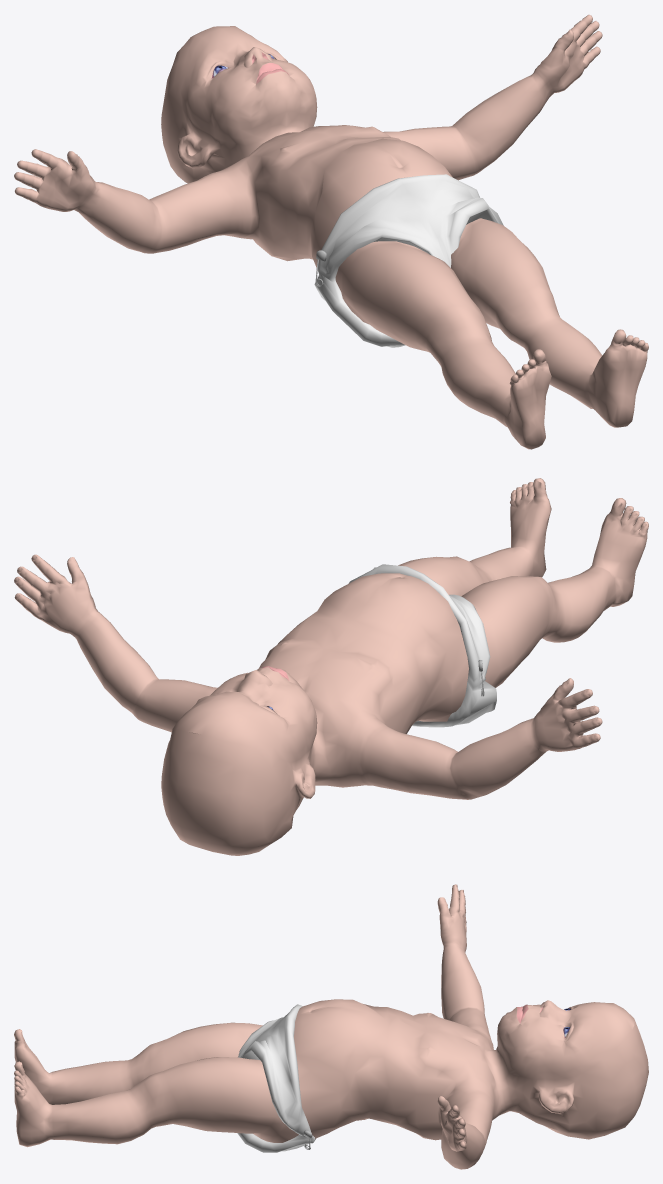
The model's file is Baby_01.gltf.
The picture shows the model from 3 angles, top to bottom: view 1: azimuth 30°, elevation 25°; view 2: azimuth 150°, elevation 25°; view 3: azimuth 270°, elevation 25°; orthographic projection. The views are drawn at different scales.
Parts seen in each view (by area): view 1: instance_0; view 2: instance_0; view 3: instance_0.
Part boxes in pixels (x1,y1,x2,y2): instance_0: (14,14,648,449); instance_0: (14,478,648,855); instance_0: (14,884,648,1169).
Bounding box in the file's own units: 43.65 × 12.41 × 50.09.
Materials: 5 (1 with a texture image).
